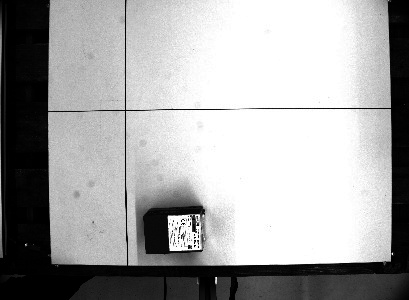b4: (141, 204, 206, 255)
